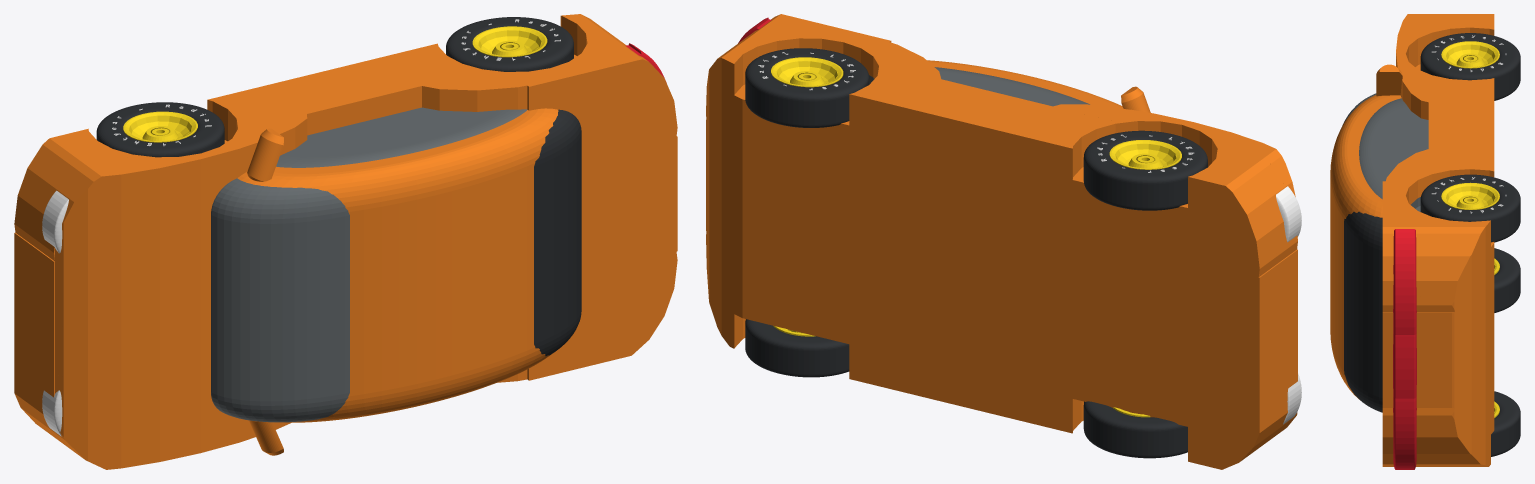
File: tinker.obj
The picture shows the model from 3 angles, left to right: view 1: azimuth 30°, elevation 25°; view 2: azimuth 150°, elevation 25°; view 3: azimuth 270°, elevation 25°; orthographic projection. The views are drawn at different scales.
Visible parts, largest first — view 1: group_0_16089887, group_0_6383466, group_0_2829873, group_0_16768282, group_0_16448250; view 2: group_0_16089887, group_0_2829873, group_0_16768282, group_0_6383466, group_0_16448250; view 3: group_0_16089887, group_0_2829873, group_0_15277357, group_0_6383466, group_0_16768282, group_0_16448250.
Boxes of the visible parts, left/top/right/bottom form: group_0_16089887: left=14, top=14, right=677, bottom=469; group_0_6383466: left=211, top=107, right=527, bottom=422; group_0_2829873: left=96, top=17, right=581, bottom=356; group_0_16768282: left=123, top=26, right=547, bottom=142; group_0_16448250: left=42, top=19, right=560, bottom=436; group_0_16089887: left=706, top=14, right=1297, bottom=469; group_0_2829873: left=745, top=48, right=1207, bottom=458; group_0_16768282: left=771, top=57, right=1181, bottom=417; group_0_6383466: left=869, top=67, right=1089, bottom=106; group_0_16448250: left=758, top=52, right=1301, bottom=424; group_0_16089887: left=1330, top=14, right=1494, bottom=466; group_0_2829873: left=1344, top=33, right=1520, bottom=456; group_0_15277357: left=1393, top=229, right=1416, bottom=469; group_0_6383466: left=1342, top=93, right=1428, bottom=211; group_0_16768282: left=1441, top=41, right=1499, bottom=417; group_0_16448250: left=1431, top=35, right=1506, bottom=213.
Size of the model in its own units: 88.25 by 45.04 by 29.
